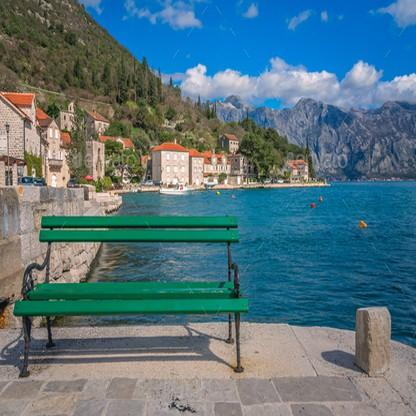obstacle: (22, 197, 258, 378)
